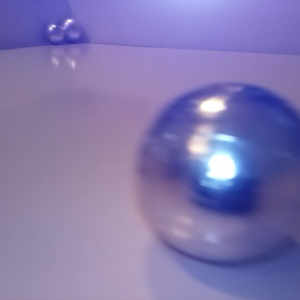alive_ball: (134, 81, 300, 265), (61, 16, 82, 42), (46, 22, 65, 44)
